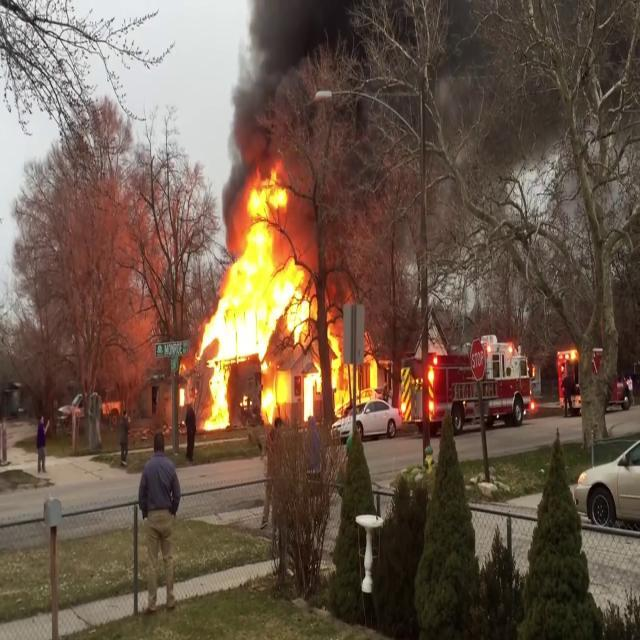Fire: (196, 155, 354, 433)
